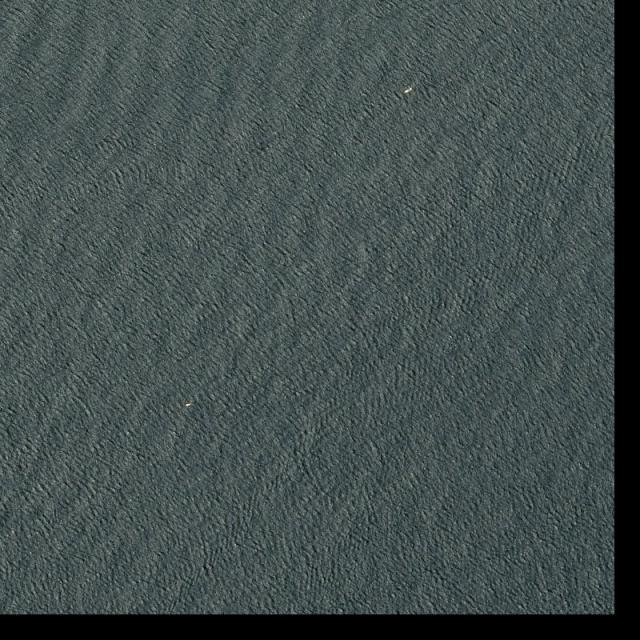ship: (403, 87, 413, 95), (186, 402, 191, 406)
